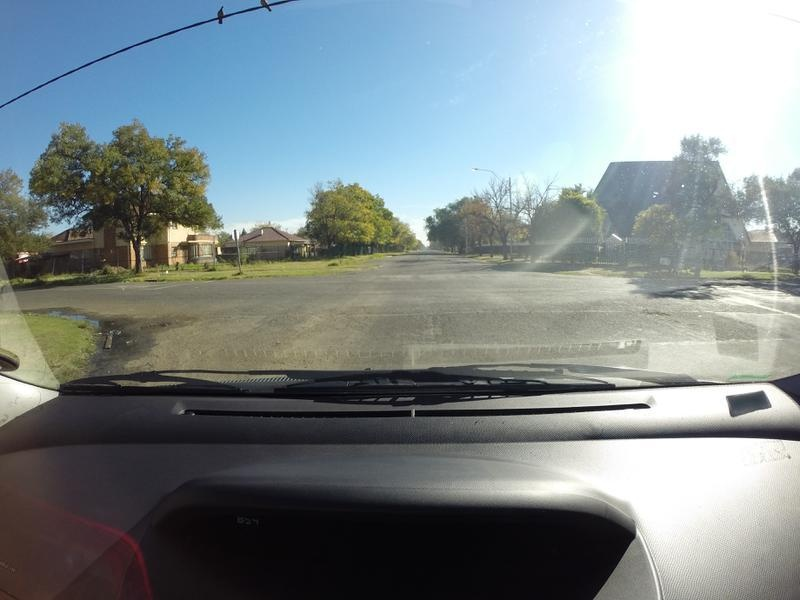pothole: (643, 309, 675, 318), (140, 322, 180, 329)
